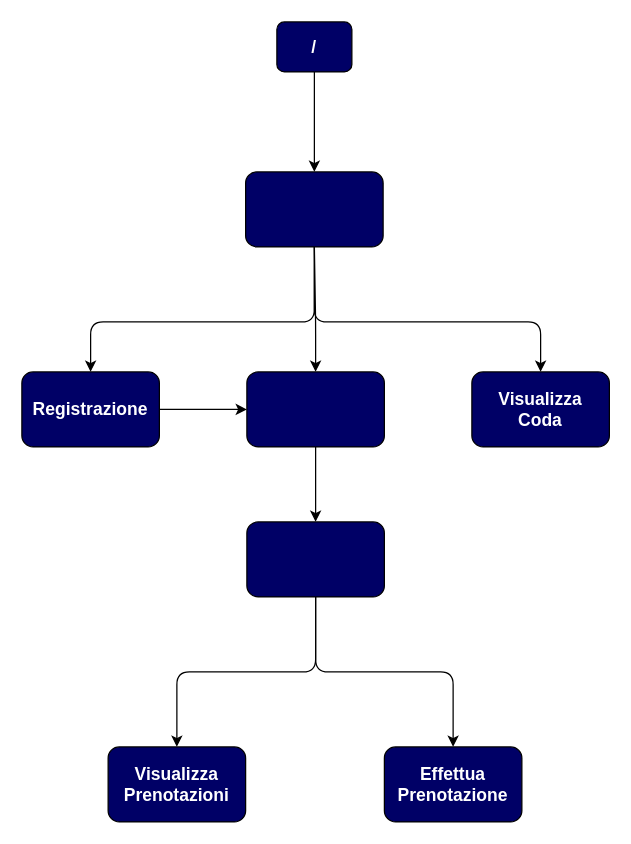
This 631x844 diagram has some shape labels left out. Here are the shapes that lost their labels. From the top down, the centre of each, then its label:
At [313,209]: "Home Page".
At [315,409]: "Login".
At [315,559]: "Pagina Utente".
